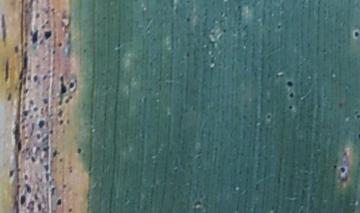tarspot: (57, 73, 66, 105), (42, 27, 54, 41), (30, 29, 39, 46), (15, 138, 24, 154), (9, 44, 22, 54), (36, 118, 47, 129), (284, 78, 296, 88), (6, 168, 16, 180), (264, 111, 274, 122), (18, 193, 27, 205), (75, 144, 83, 157), (19, 109, 32, 117), (23, 182, 33, 192), (34, 131, 44, 141), (41, 96, 50, 107), (339, 164, 347, 176), (68, 80, 76, 92), (32, 72, 40, 84), (51, 148, 58, 161), (14, 200, 21, 213), (54, 197, 63, 207), (20, 173, 30, 182), (288, 89, 296, 100), (28, 154, 36, 165), (65, 205, 76, 213), (53, 119, 65, 126), (352, 30, 360, 40), (41, 163, 52, 170), (287, 103, 295, 112), (55, 40, 64, 48), (48, 127, 54, 138), (41, 145, 48, 153)
